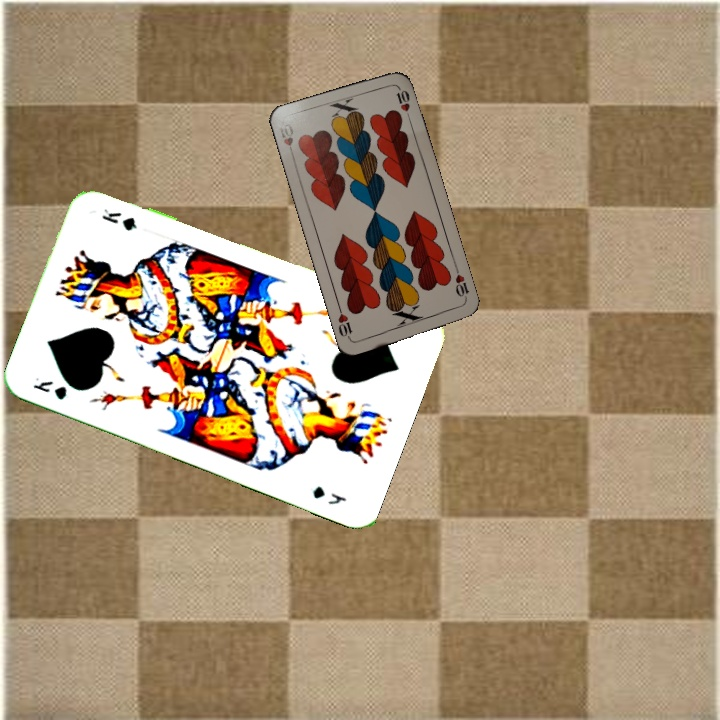GK: (29, 377, 70, 403)
H10: (275, 119, 297, 160), (451, 264, 472, 304)
